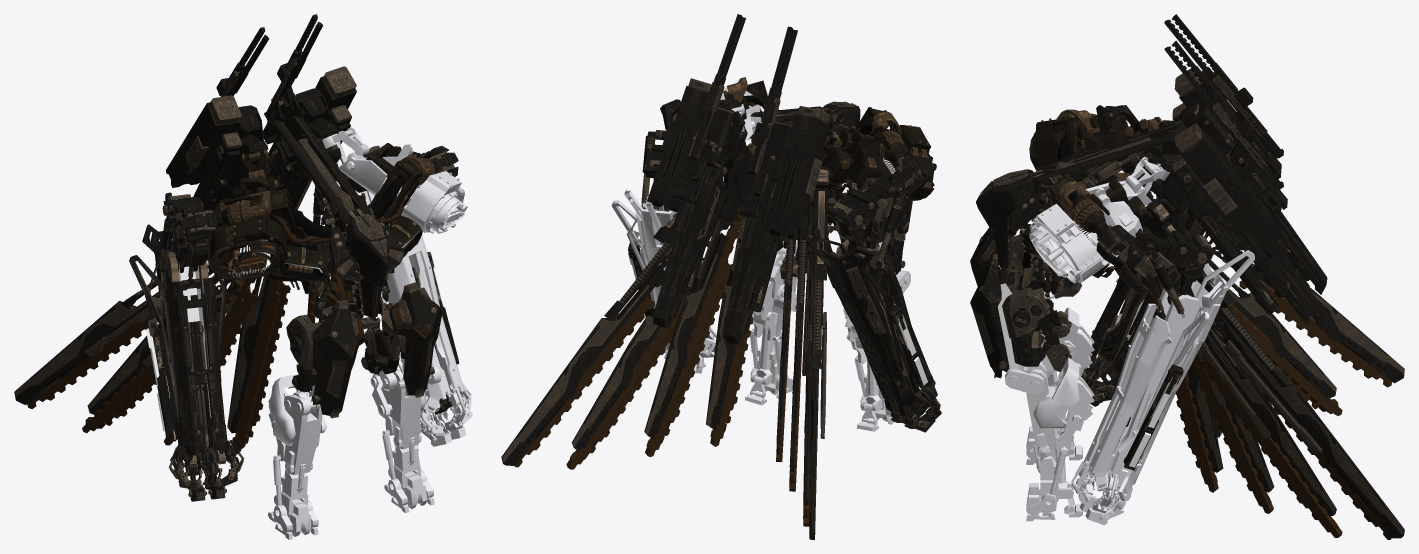
The model's file is xbg002_zeus.glb.
3 renders of one model, left to right at view 1: azimuth 30°, elevation 25°; view 2: azimuth 150°, elevation 25°; view 3: azimuth 270°, elevation 25°, orthographic. The views are drawn at different scales.
Parts seen in each view (by area): view 1: xbg002_zeus; view 2: xbg002_zeus; view 3: xbg002_zeus.
Boxes of the visible parts, x1,y1,x2,y2 form: xbg002_zeus: (14, 14, 472, 539); xbg002_zeus: (501, 14, 941, 539); xbg002_zeus: (970, 14, 1404, 539).
Bounding box in the file's own units: 16.82 × 22.2 × 19.05.
Materials: 39 (31 with a texture image).
